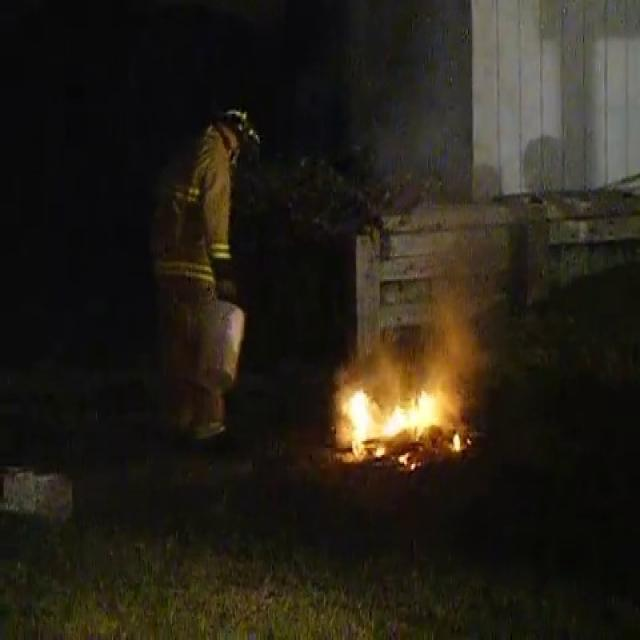Fire: (336, 359, 459, 462)
